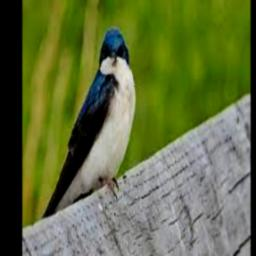Swallow: (42, 28, 136, 219)
